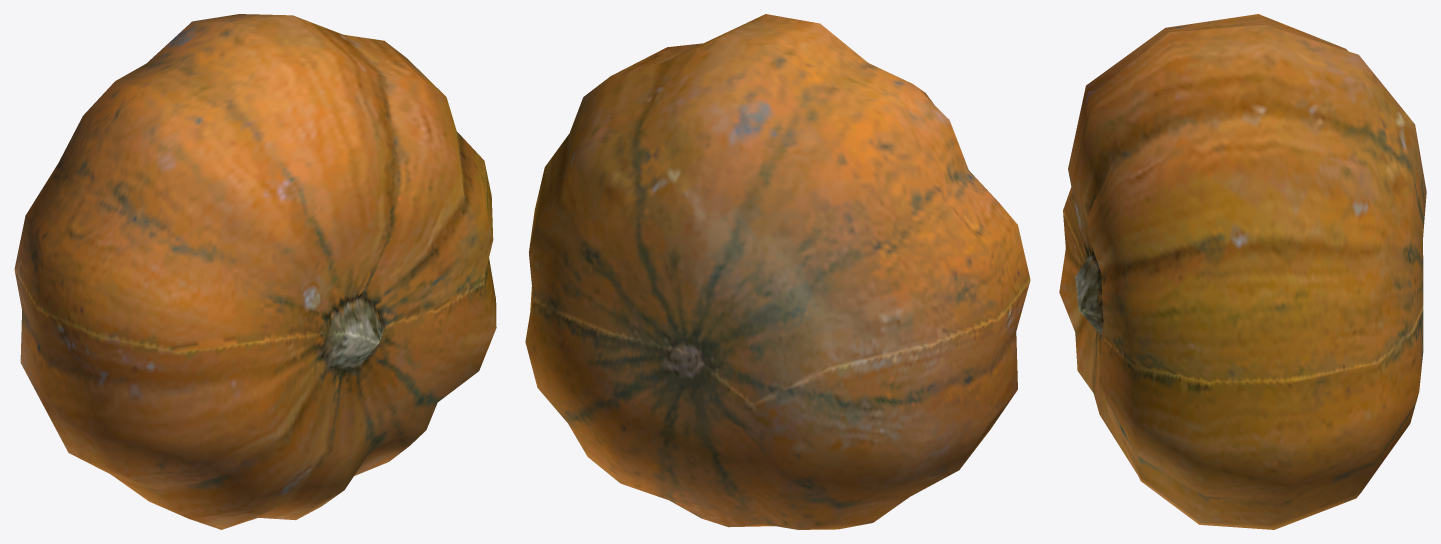
The model's file is hd_dec_UNI_001_Pumpkin.glb.
3 views of the same model, side by side, from view 1: azimuth 30°, elevation 25°; view 2: azimuth 150°, elevation 25°; view 3: azimuth 270°, elevation 25° (orthographic).
Visible parts, largest first — view 1: set_0_group_0; view 2: set_0_group_0; view 3: set_0_group_0.
Part boxes in pixels (x1=…): set_0_group_0: x1=14, y1=14, x2=496, y2=529; set_0_group_0: x1=525, y1=14, x2=1030, y2=529; set_0_group_0: x1=1059, y1=14, x2=1426, y2=529.
Size of the model in its own units: 0.4416 by 0.4549 by 0.3171.
Materials: 1 (1 with a texture image).
